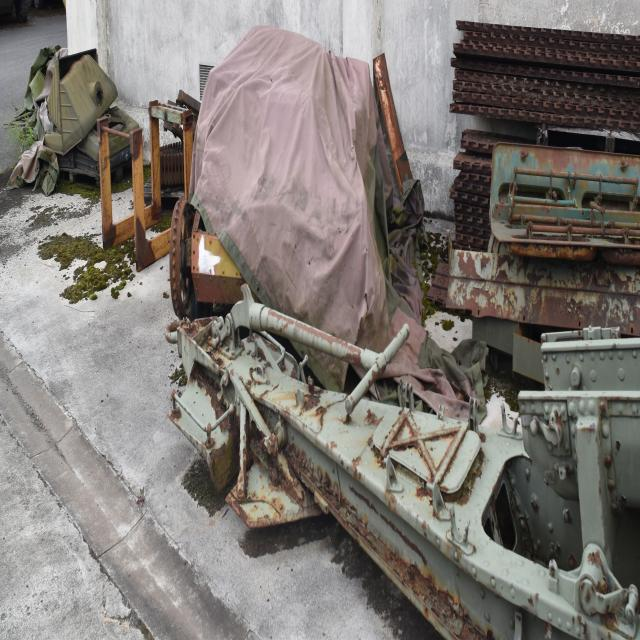entulho: (175, 25, 421, 407), (347, 391, 640, 640), (196, 321, 338, 530), (443, 18, 630, 116), (98, 93, 196, 260), (446, 128, 528, 256), (43, 51, 120, 157), (424, 332, 487, 422)
